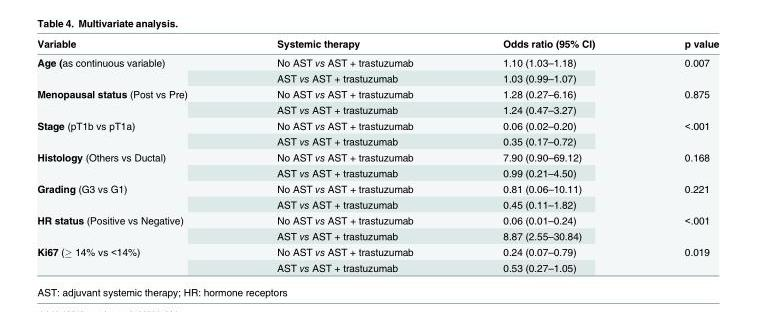table: (36, 37, 718, 273)
table column: (231, 37, 457, 273), (36, 37, 231, 273), (457, 37, 639, 273), (639, 37, 718, 273)
table column header: (36, 37, 718, 52)
table row: (36, 52, 718, 70), (36, 85, 718, 101), (36, 101, 718, 117), (36, 117, 718, 133), (36, 148, 718, 164), (36, 164, 718, 180), (36, 180, 718, 196), (36, 196, 718, 212), (36, 227, 718, 243), (36, 243, 718, 259), (36, 37, 718, 52), (36, 70, 718, 85), (36, 133, 718, 148), (36, 212, 718, 227), (36, 259, 718, 273)
table spanning cell: (36, 52, 231, 85), (36, 85, 231, 117), (36, 148, 231, 180), (36, 180, 231, 212), (36, 117, 231, 148), (36, 212, 231, 243), (36, 243, 231, 273), (639, 52, 718, 85), (639, 85, 718, 117), (639, 148, 718, 180), (639, 180, 718, 212), (639, 117, 718, 148), (639, 212, 718, 243), (639, 243, 718, 273)
